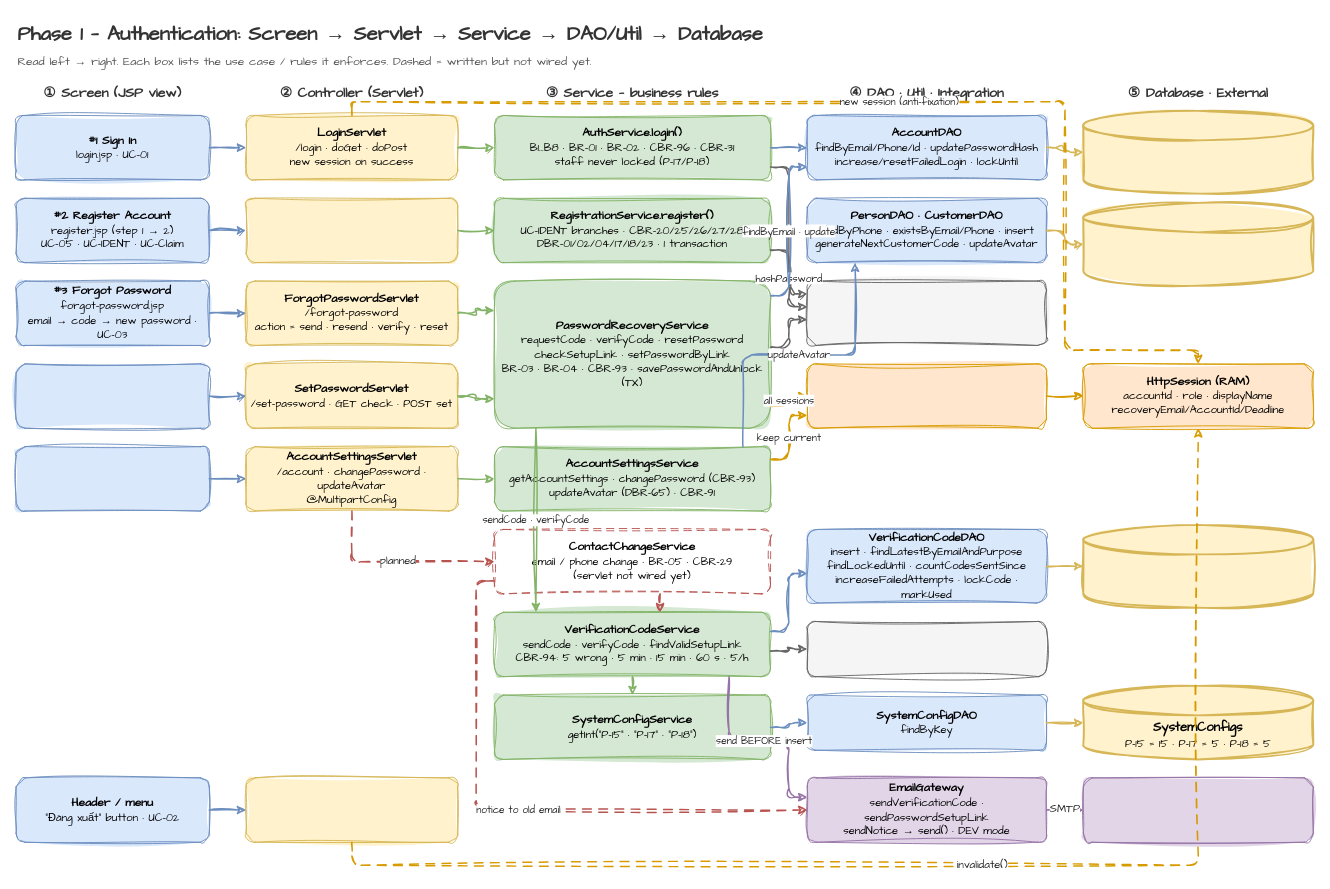
This 1330x889 diagram has some shape labels left out. Here are the shapes that lost their labels. From the top down, the box of each, then its label:
(1082, 109, 1314, 194): Accounts PasswordHash · Status FailedLoginCount · LockedUntil
(245, 197, 458, 263): RegisterServlet /register · step=1 / step=2
(1082, 201, 1314, 286): Persons · Customers · Employees Phone · Email · IsReleased Status New · Position
(806, 280, 1046, 345): PasswordUtil (BCrypt) hashPassword · checkPassword cost 10 · salt inside hash
(15, 363, 209, 428): Set Password (email link) set-password.jsp?token= CBR-24 · CBR-31
(806, 363, 1046, 428): SessionRegistryListener invalidateSessionsOfAccount(id, keep)
(15, 446, 209, 511): #4 Account Settings account-settings.jsp Profile · Password · Dependents · UC-04
(1082, 523, 1314, 608): VerificationCodes Purpose · Code · TokenHash ExpiresAt · FailedAttempts · UsedAt
(806, 621, 1046, 677): SecureCodeUtil SecureRandom 6-digit code URL token · sha256Hex
(245, 777, 458, 842): LogoutServlet /logout · session.invalidate()
(1082, 777, 1313, 842): Gmail SMTP → user mailbox smtp.gmail.com:587 STARTTLS
